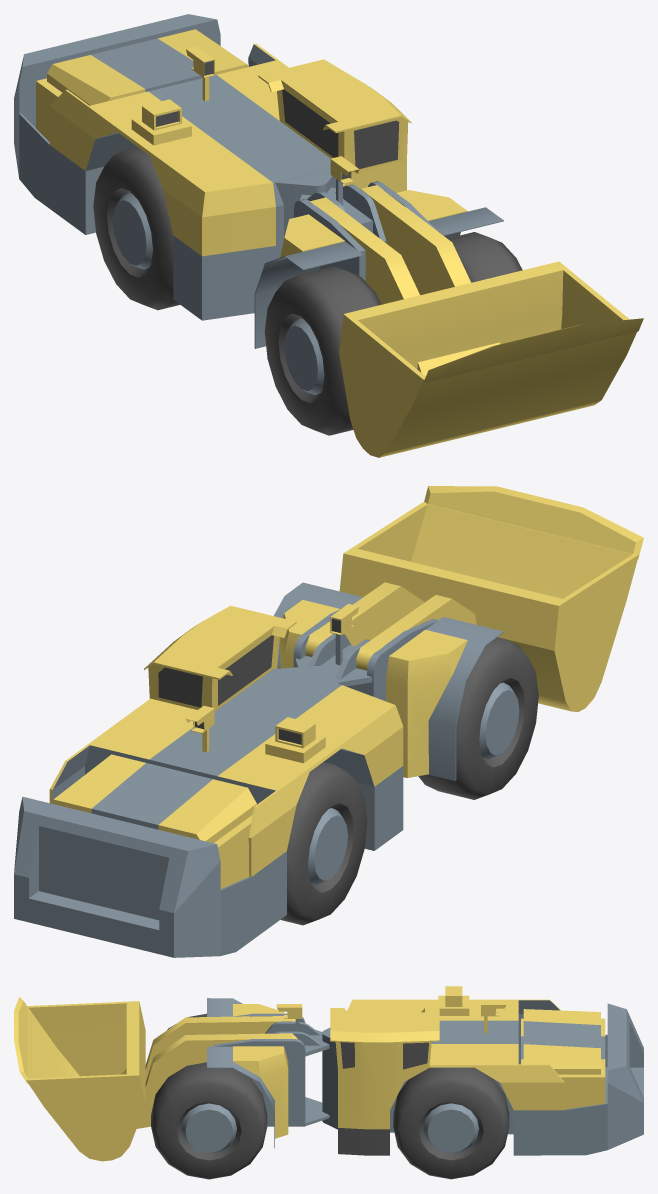
Rendered from Scooptram_ST18_Battery_1400_v.fbx.
3 renders of one model, top to bottom at view 1: azimuth 30°, elevation 25°; view 2: azimuth 150°, elevation 25°; view 3: azimuth 270°, elevation 25°, orthographic. The views are drawn at different scales.
Parts seen in each view (by area): view 1: Scooptram_ST18_Battery; view 2: Scooptram_ST18_Battery; view 3: Scooptram_ST18_Battery.
Part boxes in pixels (x1,y1,x2,y2): Scooptram_ST18_Battery: (14,14,643,457); Scooptram_ST18_Battery: (14,486,643,957); Scooptram_ST18_Battery: (14,986,643,1179).
Size of the model in its own units: 311 by 288 by 1113.
